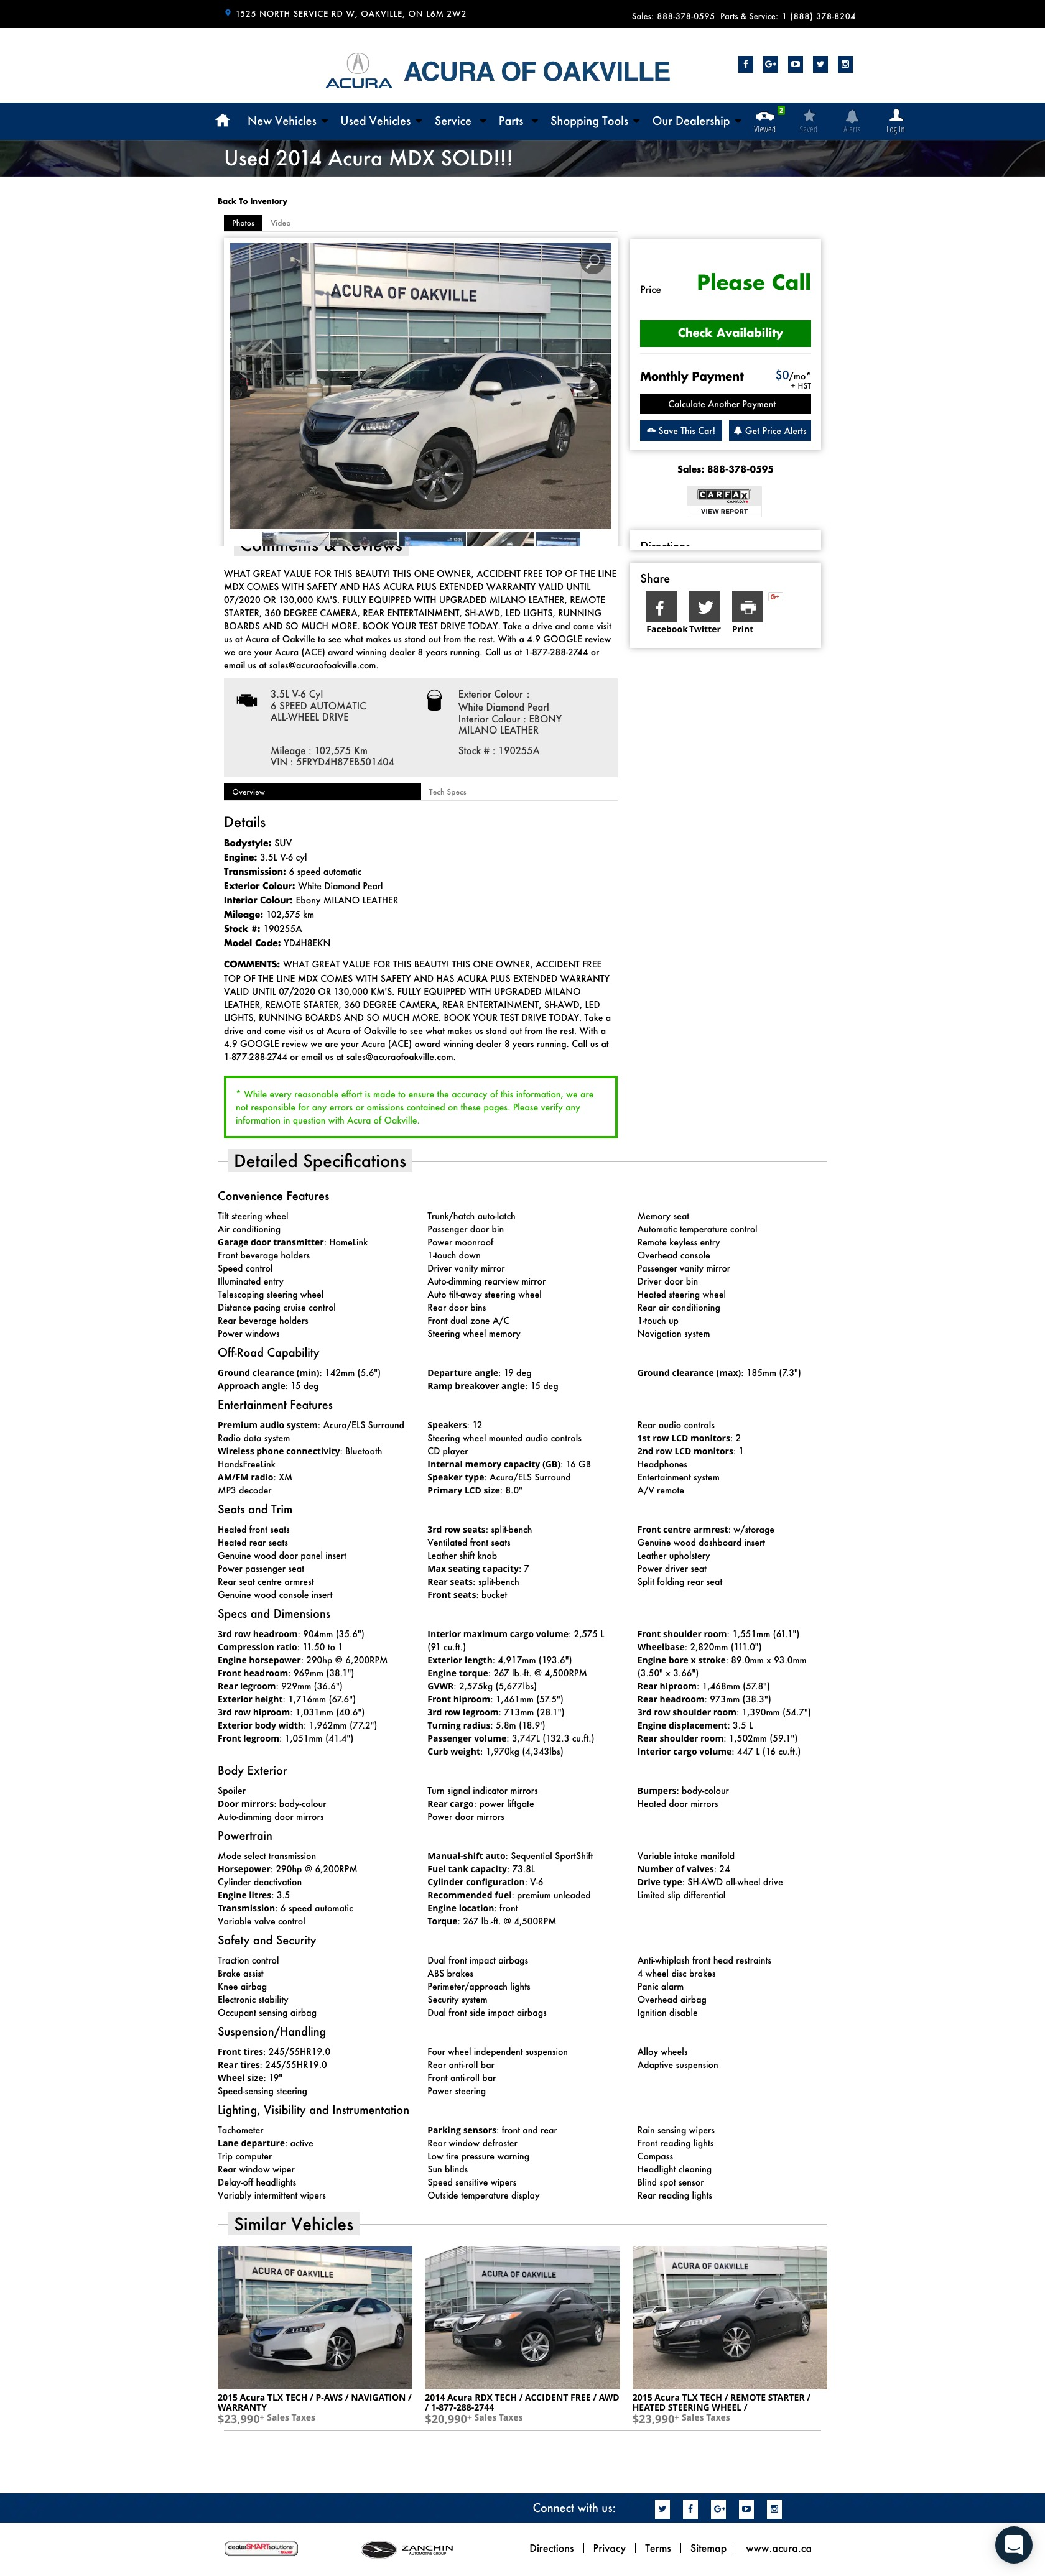car: (580, 373, 610, 398)
